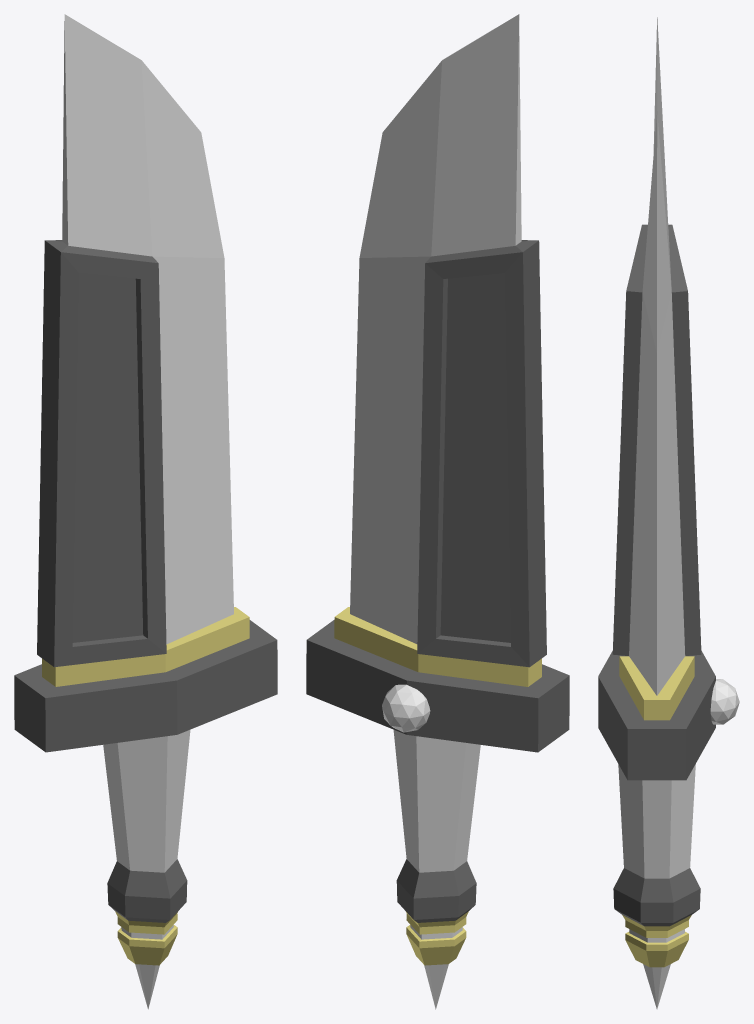
The model's file is low_poly_sword.fbx.
The picture shows the model from 3 angles, left to right: view 1: azimuth 30°, elevation 25°; view 2: azimuth 150°, elevation 25°; view 3: azimuth 270°, elevation 25°; orthographic projection. The views are drawn at different scales.
Parts seen in each view (by area): view 1: Cylinder, Cylinder.002; view 2: Cylinder, Cylinder.002; view 3: Cylinder, Cylinder.002.
Boxes of the visible parts, box(x1,y1,x2,y2) form: Cylinder: box(14, 14, 277, 1009); Cylinder.002: box(37, 240, 166, 667); Cylinder: box(306, 14, 569, 1009); Cylinder.002: box(417, 240, 546, 667); Cylinder: box(598, 17, 739, 1009); Cylinder.002: box(612, 224, 701, 656).
Size of the model in its own units: 429 by 1794 by 240.
